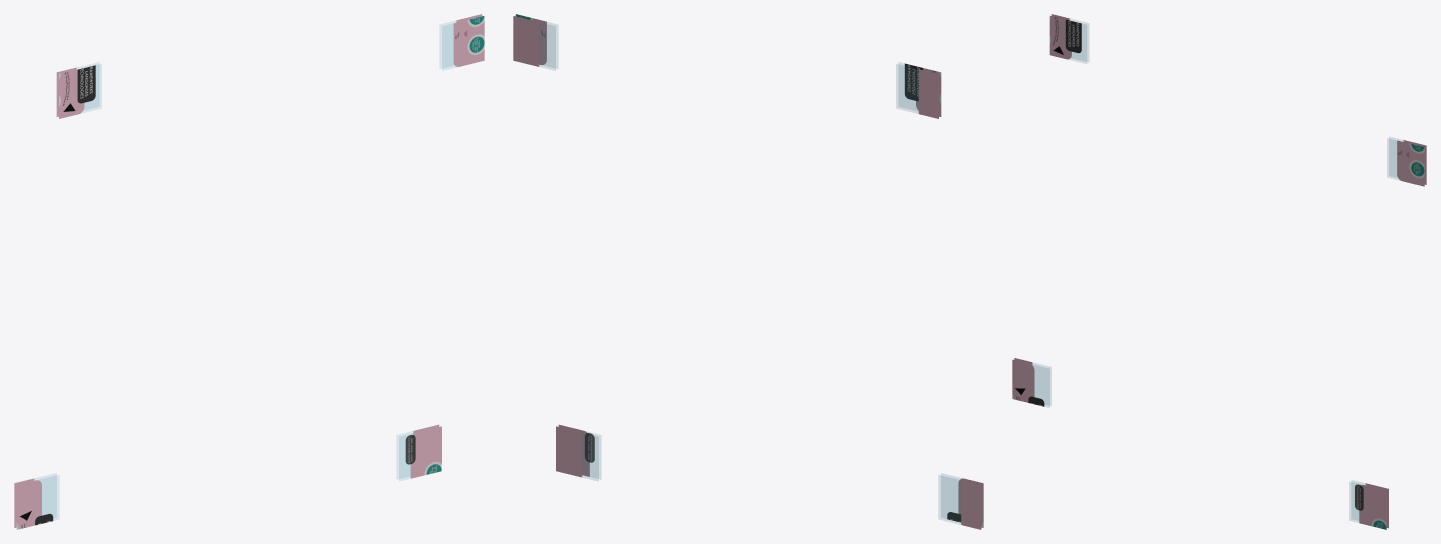
File: panel-4.gltf
3 views of the same model, side by side, from view 1: azimuth 30°, elevation 25°; view 2: azimuth 150°, elevation 25°; view 3: azimuth 330°, elevation 25° (orthographic). The views are drawn at different scales.
Visible parts, largest first — view 1: Cube.002_cell.007, Cube.002_cell.003, Cube.002_cell, Cube.002_cell.006; view 2: Cube.002_cell.007, Cube.002_cell.006, Cube.002_cell, Cube.002_cell.003; view 3: Cube.002_cell.003, Cube.002_cell, Cube.002_cell.006, Cube.002_cell.007.
Boxes of the visible parts, box(x1,y1,x2,y2) form: Cube.002_cell.007: box(56, 62, 101, 118); Cube.002_cell.003: box(14, 473, 58, 529); Cube.002_cell: box(397, 424, 441, 480); Cube.002_cell.006: box(440, 14, 484, 70); Cube.002_cell.007: box(896, 62, 941, 118); Cube.002_cell.006: box(513, 14, 557, 70); Cube.002_cell: box(556, 424, 600, 480); Cube.002_cell.003: box(939, 473, 983, 529); Cube.002_cell.003: box(1012, 358, 1051, 407); Cube.002_cell: box(1349, 480, 1388, 529); Cube.002_cell.006: box(1387, 137, 1426, 186); Cube.002_cell.007: box(1049, 14, 1088, 63).
Size of the model in its own units: 10.9 by 10.92 by 0.1.
1 material, 1 textured.
